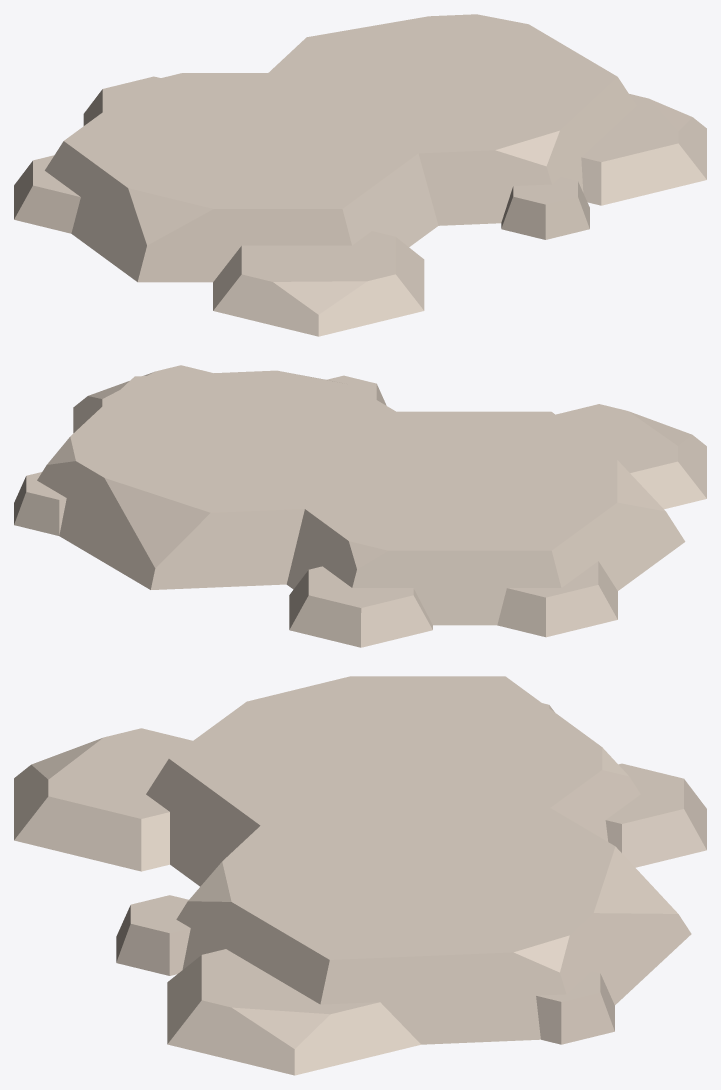
File: DesertLandmass.glb
3 views of the same model, one above another, from view 1: azimuth 30°, elevation 25°; view 2: azimuth 150°, elevation 25°; view 3: azimuth 270°, elevation 25° (orthographic). The views are drawn at different scales.
Parts seen in each view (by area): view 1: platform_beach; view 2: platform_beach; view 3: platform_beach.
Part boxes in pixels (bbox=[...]): platform_beach: bbox=[14, 14, 706, 336]; platform_beach: bbox=[14, 365, 706, 647]; platform_beach: bbox=[14, 676, 706, 1075].
Bounding box in the file's own units: 0.8932 × 0.0825 × 0.724.
